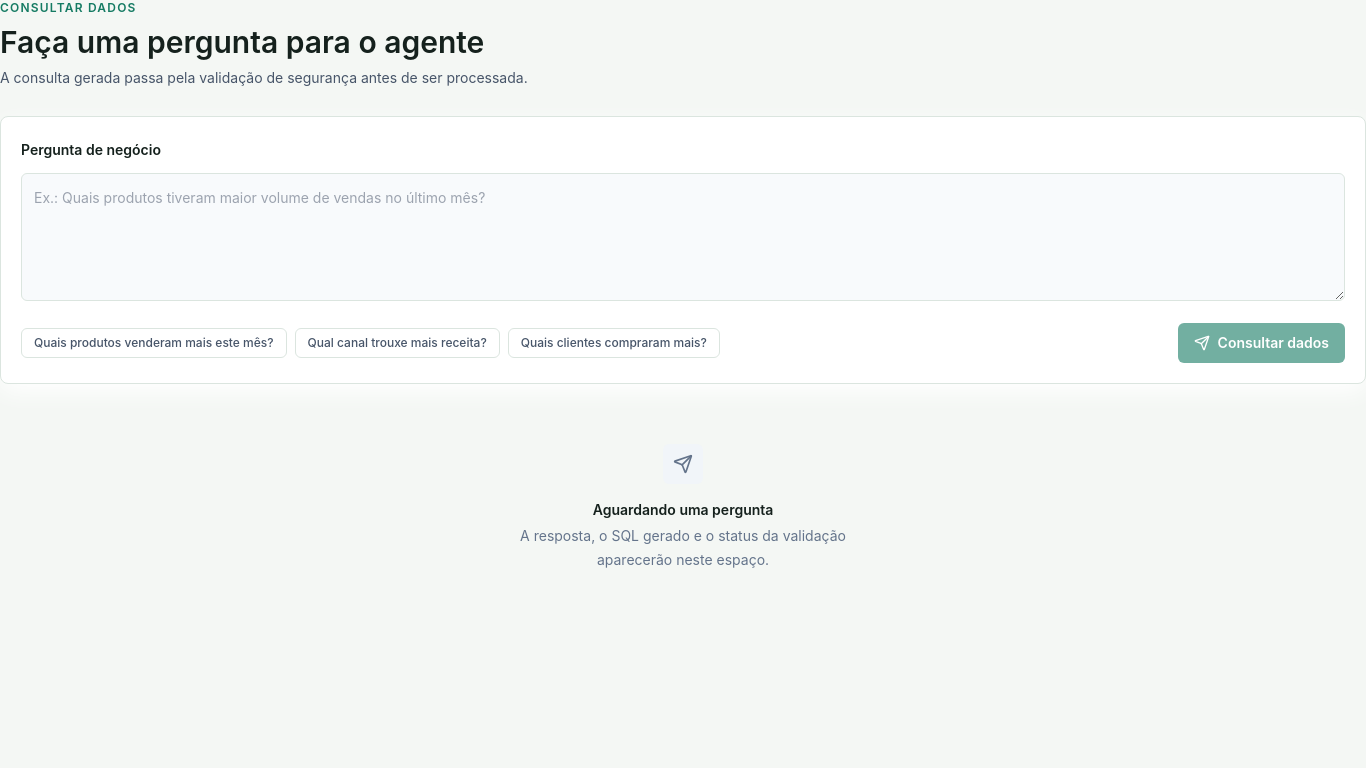
AskDataPage › renders a blocked query without result visualization
The width and height of the screenshot is (1366, 768).
Type "Apague os pedidos cancelados" into the text box labelled "Pergunta de negócio" at coordinates (683, 237), box [21,173,1345,301]
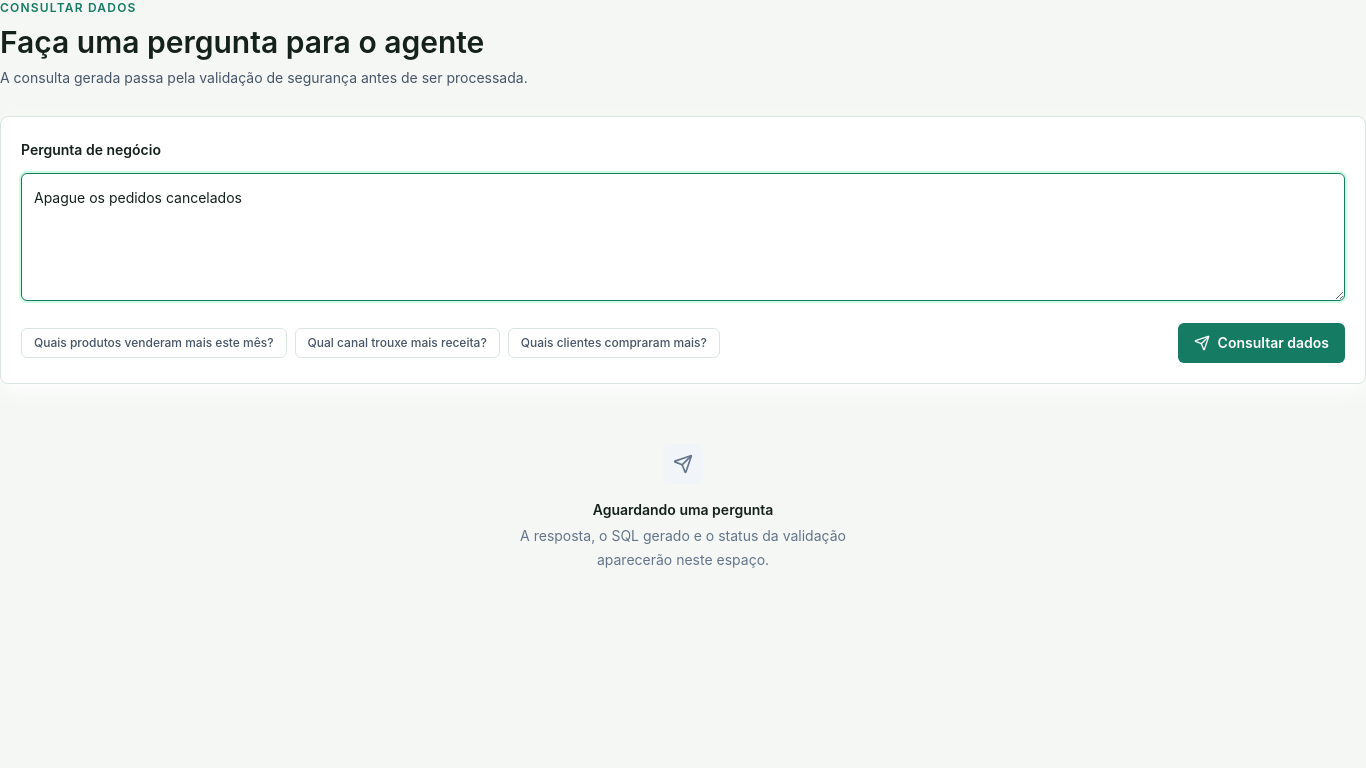
Click the button "Consultar dados" at coordinates (1261, 343), box [1178,323,1345,363]
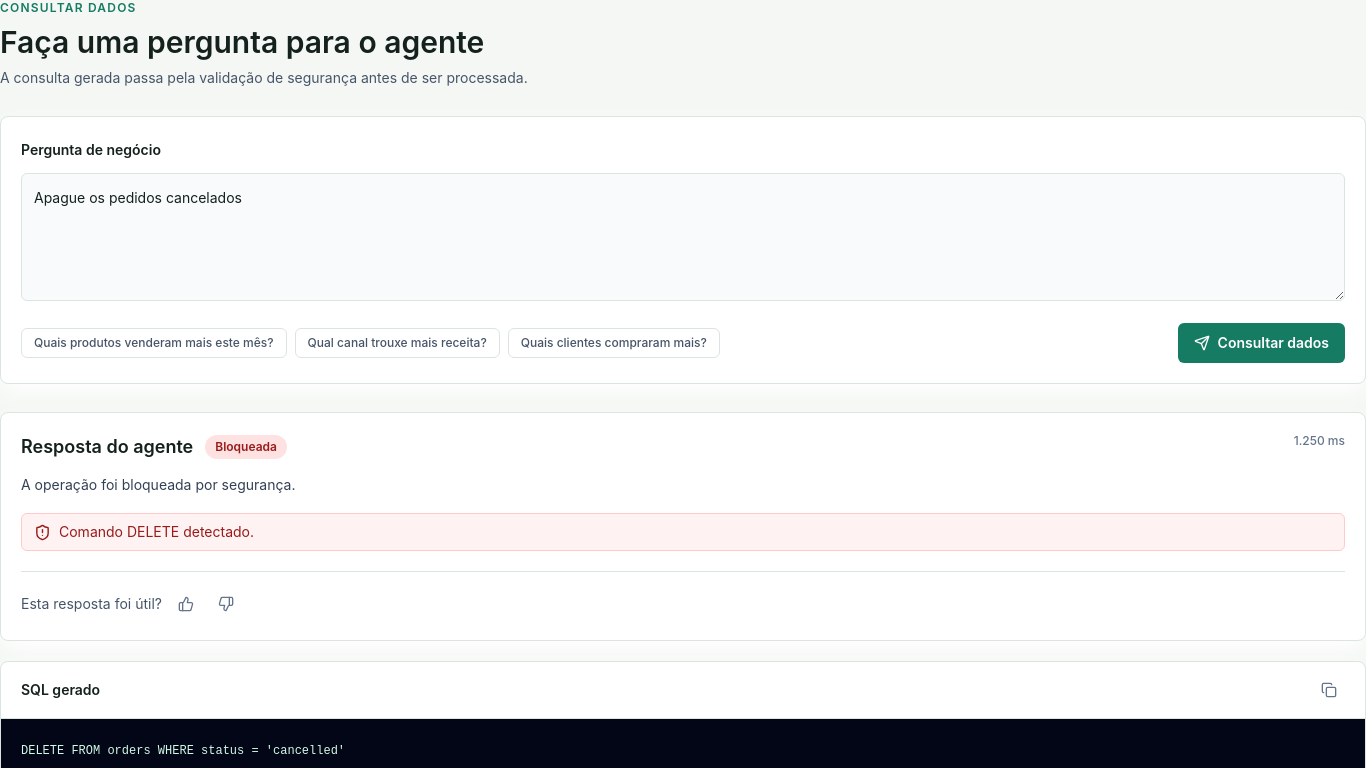
Now the text "Bloqueada" is shown, box [205,435,287,459]
Now the text "Comando DELETE detectado." is shown, box [21,513,1345,551]
